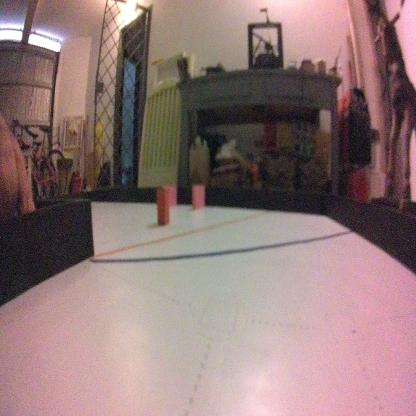magenta: (190, 182, 204, 212), (164, 182, 176, 209)
red: (155, 185, 169, 224)
